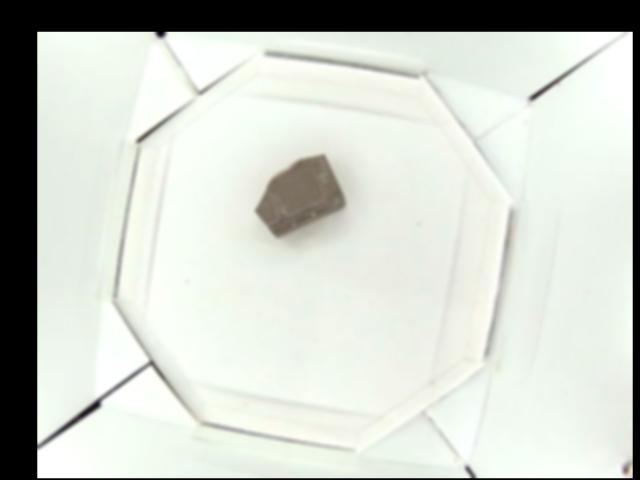China: (255, 152, 346, 238)
